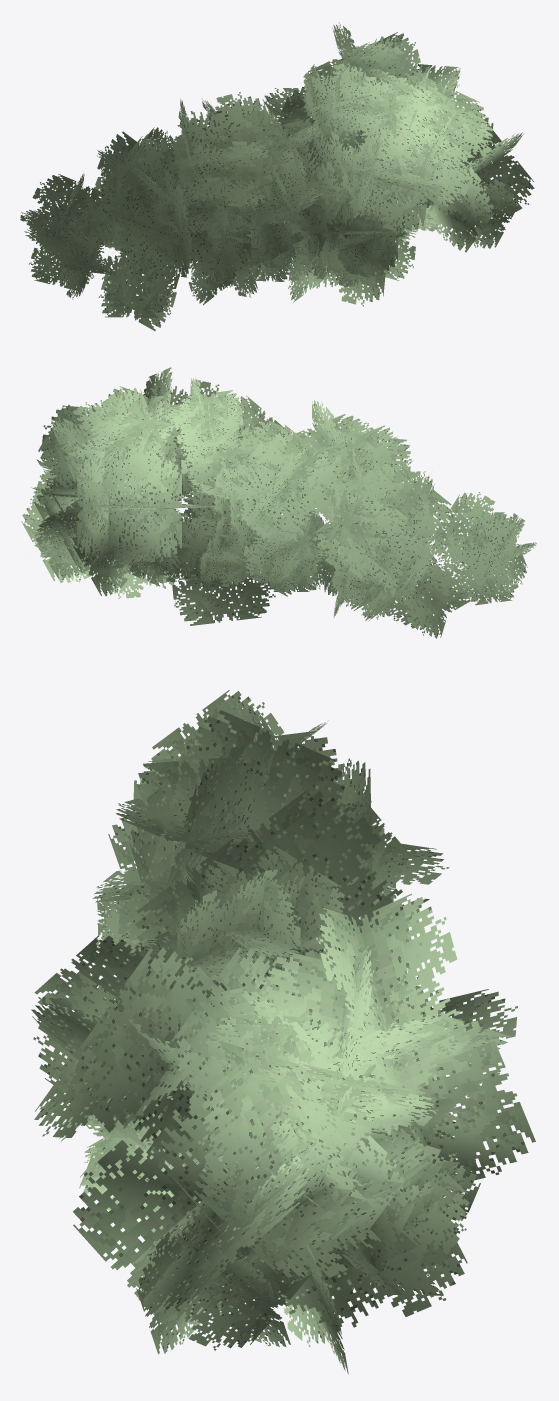
Rendered from 106_Clumps_001.gltf.
3 views of the same model, one above another, from view 1: azimuth 30°, elevation 25°; view 2: azimuth 150°, elevation 25°; view 3: azimuth 270°, elevation 25° (orthographic). The views are drawn at different scales.
Visible parts, largest first — view 1: Clumps_001; view 2: Clumps_001; view 3: Clumps_001.
Part boxes in pixels (x1,y1,x2,y2): Clumps_001: (20,22,534,330); Clumps_001: (21,367,536,638); Clumps_001: (31,690,535,1374).
Size of the model in its own units: 11.82 by 5.39 by 5.69.
1 material, 1 textured.
